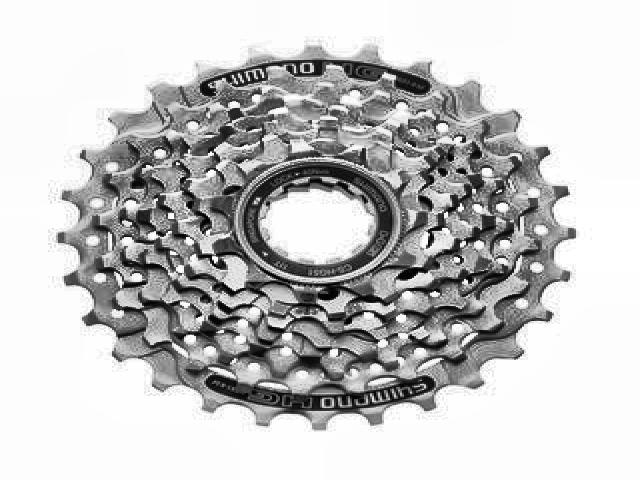cassette: (52, 42, 574, 434)
